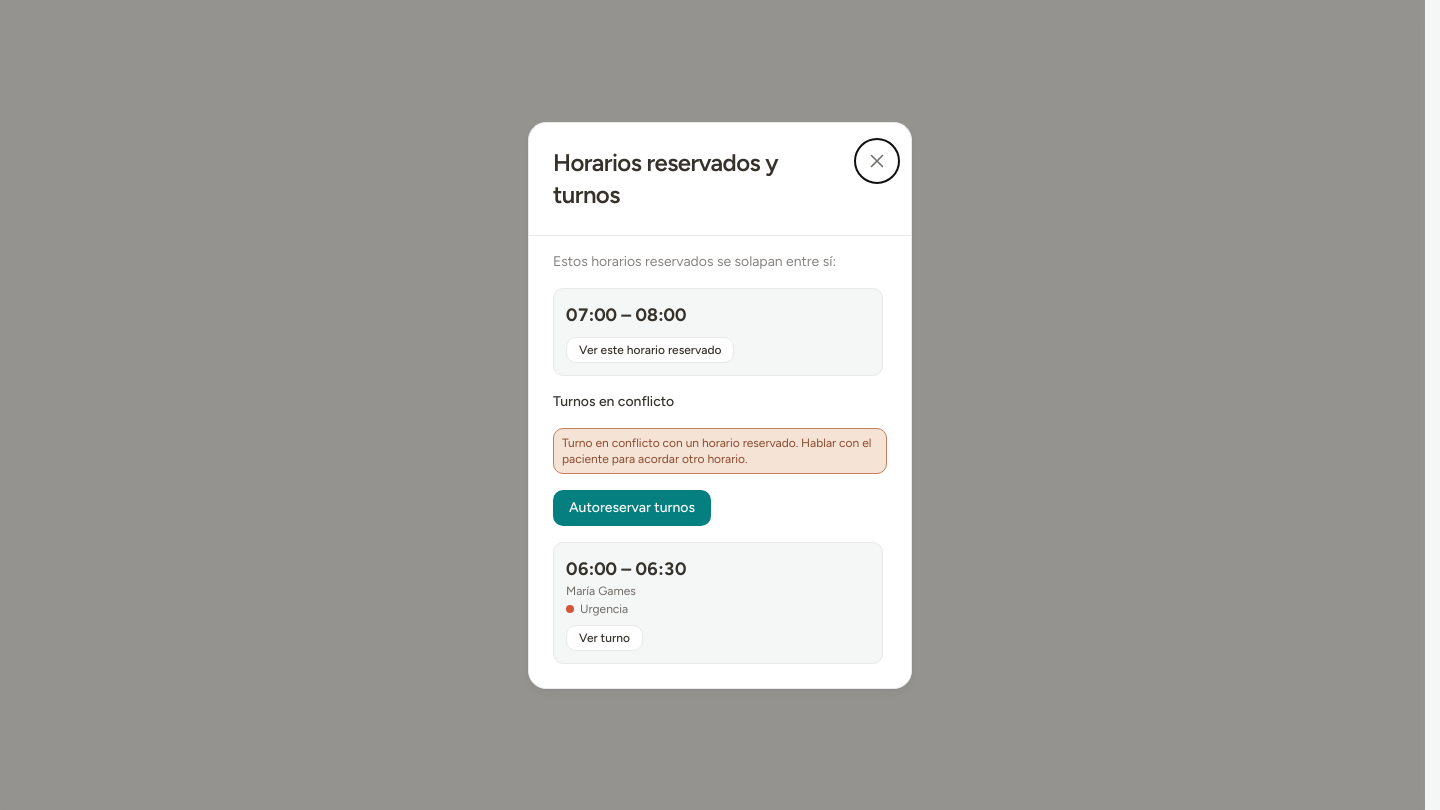
Test: BloqueoDetalleModal › autoreservar turnos › en error, muestra el mensaje y no reemplaza el cuerpo
Click the button "Autoreservar turnos" at (632, 508), box 553,490 -> 711,526
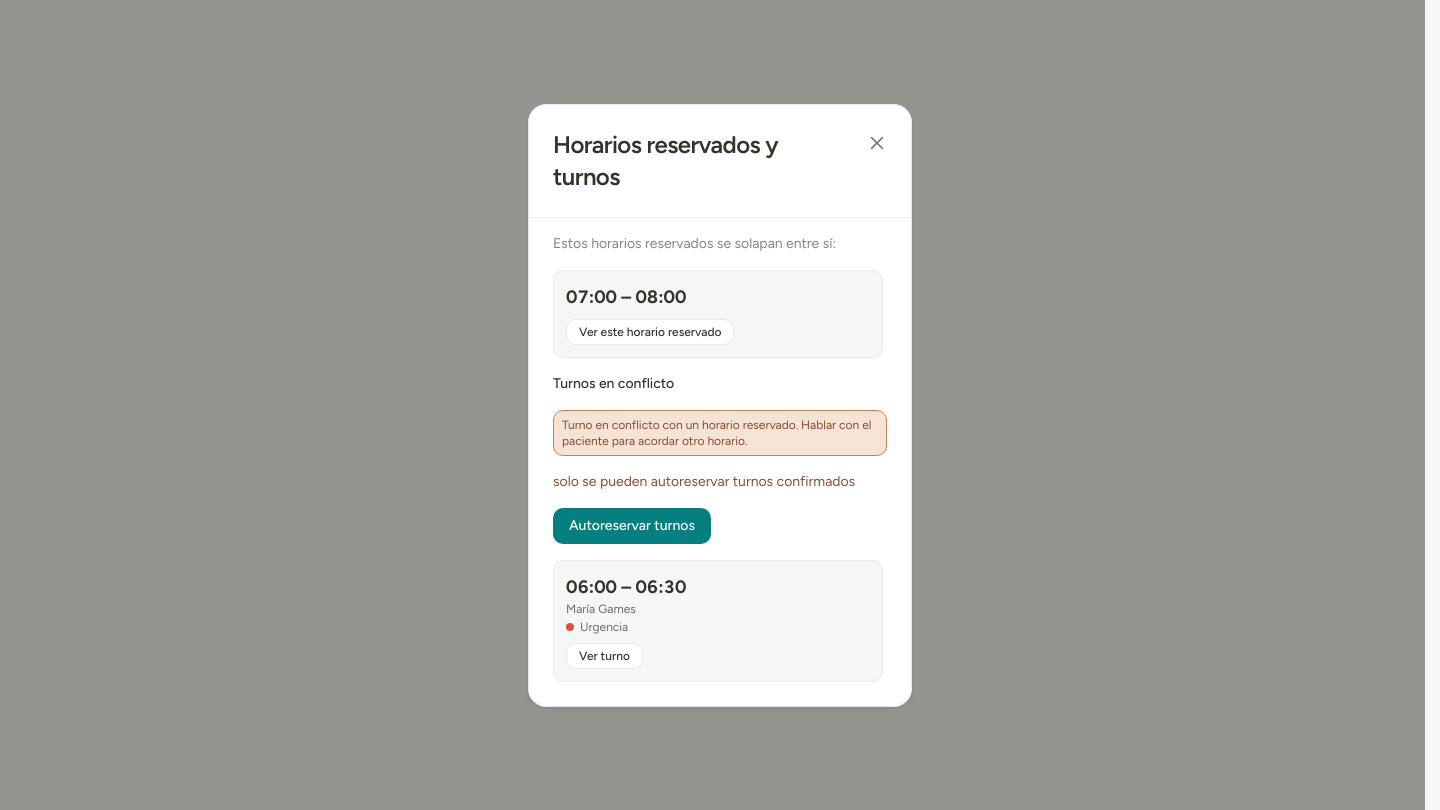
Expected: the text "Turnos en conflicto" is shown, 553,374 -> 674,392
Result: the text "solo se pueden autoreservar turnos confirmados" is shown at 553,472 -> 887,492
